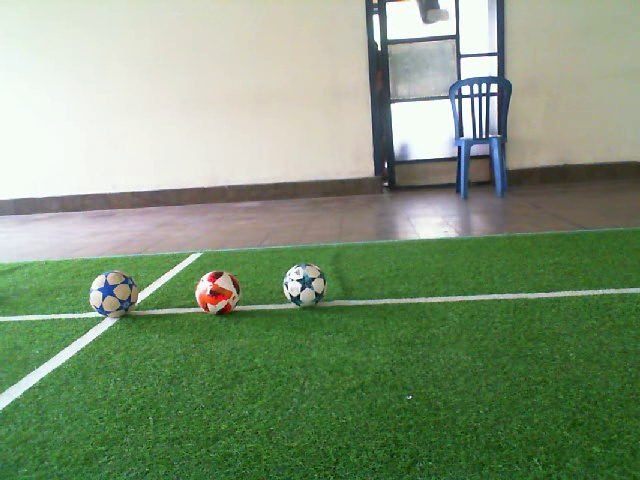ball: (88, 269, 140, 319), (281, 260, 329, 310), (194, 269, 242, 317)
